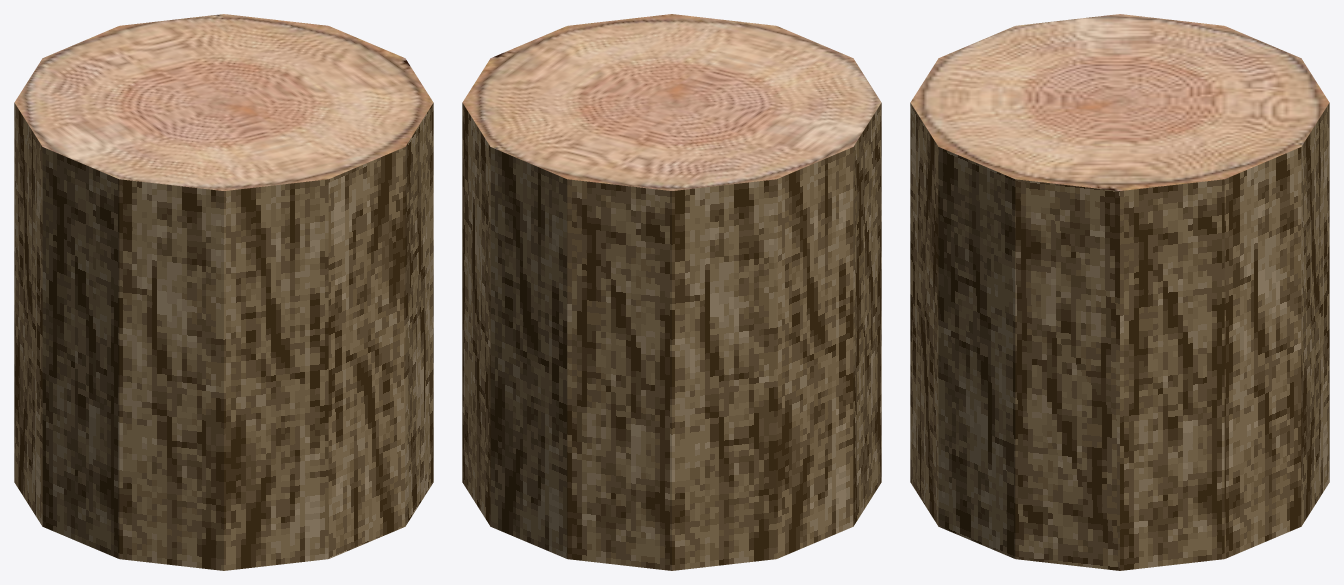
The model's file is NewLog.glb.
The picture shows the model from 3 angles, left to right: view 1: azimuth 30°, elevation 25°; view 2: azimuth 150°, elevation 25°; view 3: azimuth 270°, elevation 25°; orthographic projection.
Visible parts, largest first — view 1: Cylinder; view 2: Cylinder; view 3: Cylinder.
Part boxes in pixels (x1,y1,x2,y2): Cylinder: (14, 14, 433, 570); Cylinder: (462, 14, 881, 570); Cylinder: (910, 14, 1329, 570).
Size of the model in its own units: 2 by 2 by 2.
2 materials, 2 textured.
